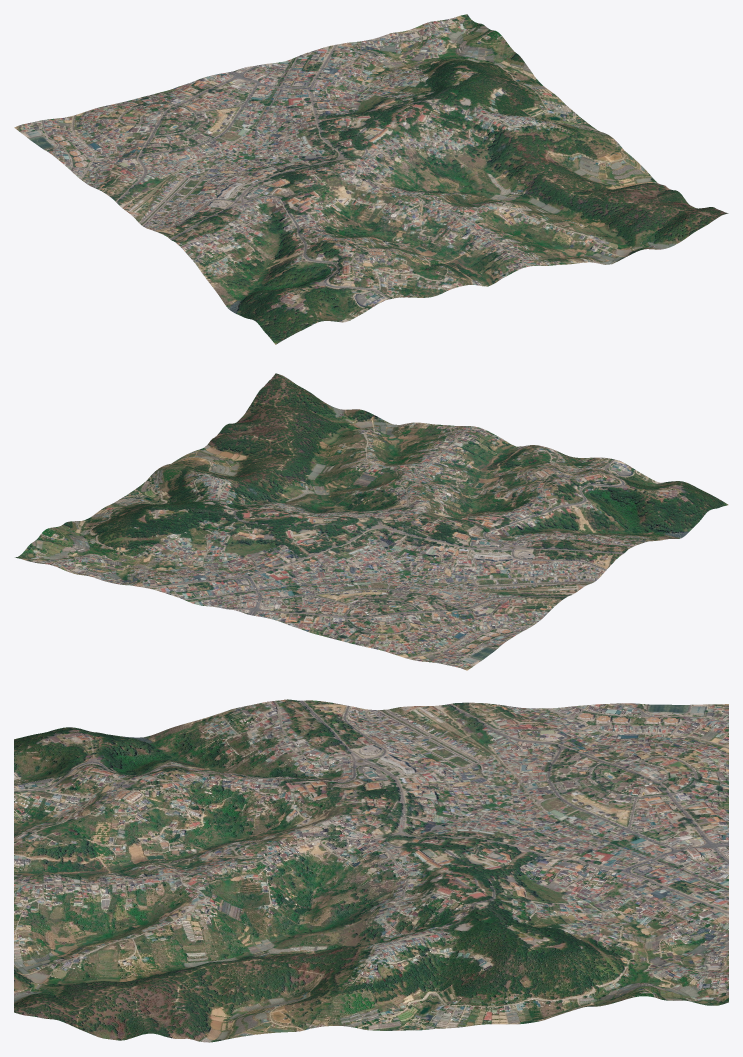
Rendered from terrain_real_T_E01_N00.glb.
3 renders of one model, top to bottom at view 1: azimuth 30°, elevation 25°; view 2: azimuth 150°, elevation 25°; view 3: azimuth 270°, elevation 25°, orthographic. The views are drawn at different scales.
Parts seen in each view (by area): view 1: TerrainReal_T_E01_N00; view 2: TerrainReal_T_E01_N00; view 3: TerrainReal_T_E01_N00.
Boxes of the visible parts, x1=… form: TerrainReal_T_E01_N00: x1=14, y1=14, x2=728, y2=344; TerrainReal_T_E01_N00: x1=15, y1=373, x2=728, y2=670; TerrainReal_T_E01_N00: x1=14, y1=699, x2=728, y2=1042.
Size of the model in its own units: 2000 by 176 by 2000.
1 material, 1 textured.
